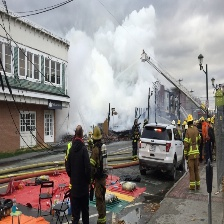smoke: (65, 2, 215, 129)
